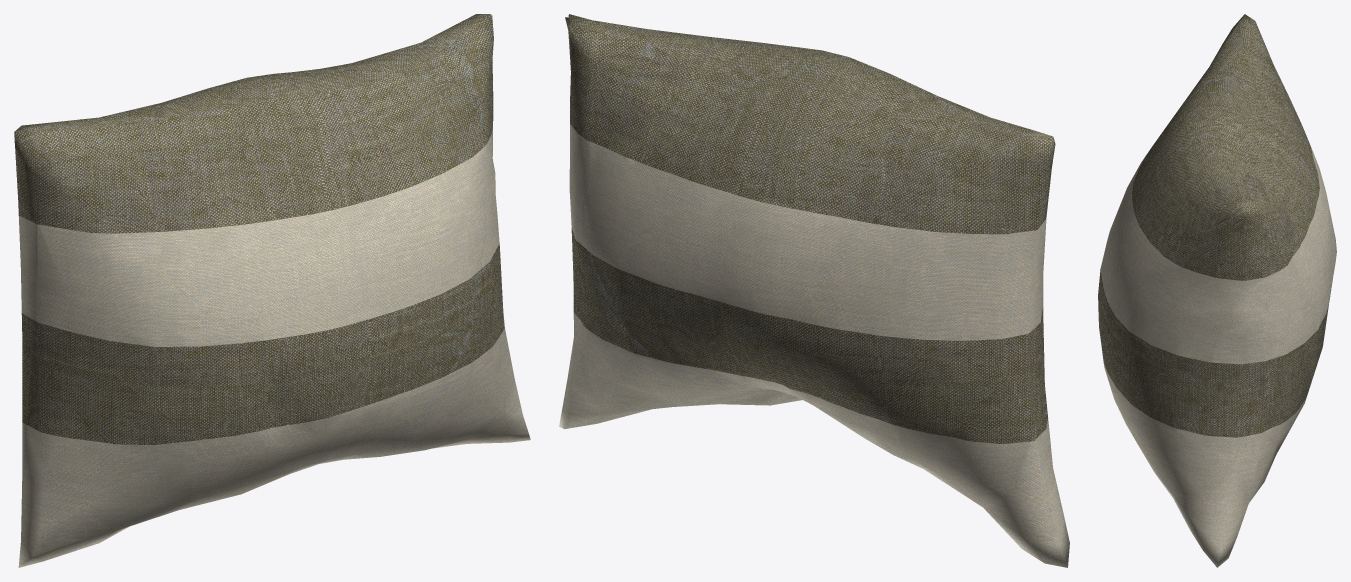
The picture shows the model from 3 angles, left to right: view 1: azimuth 30°, elevation 25°; view 2: azimuth 150°, elevation 25°; view 3: azimuth 270°, elevation 25°; orthographic projection. The views are drawn at different scales.
Parts seen in each view (by area): view 1: SketchUp (×4); view 2: SketchUp (×4); view 3: SketchUp (×4).
Boxes of the visible parts, bbox=[...] form: SketchUp (×4): bbox=[14, 14, 530, 567]; SketchUp (×4): bbox=[559, 14, 1069, 567]; SketchUp (×4): bbox=[1098, 14, 1336, 567].
Size of the model in its own units: 23.6 by 11.56 by 19.28.
Materials: 3 (2 with a texture image).
